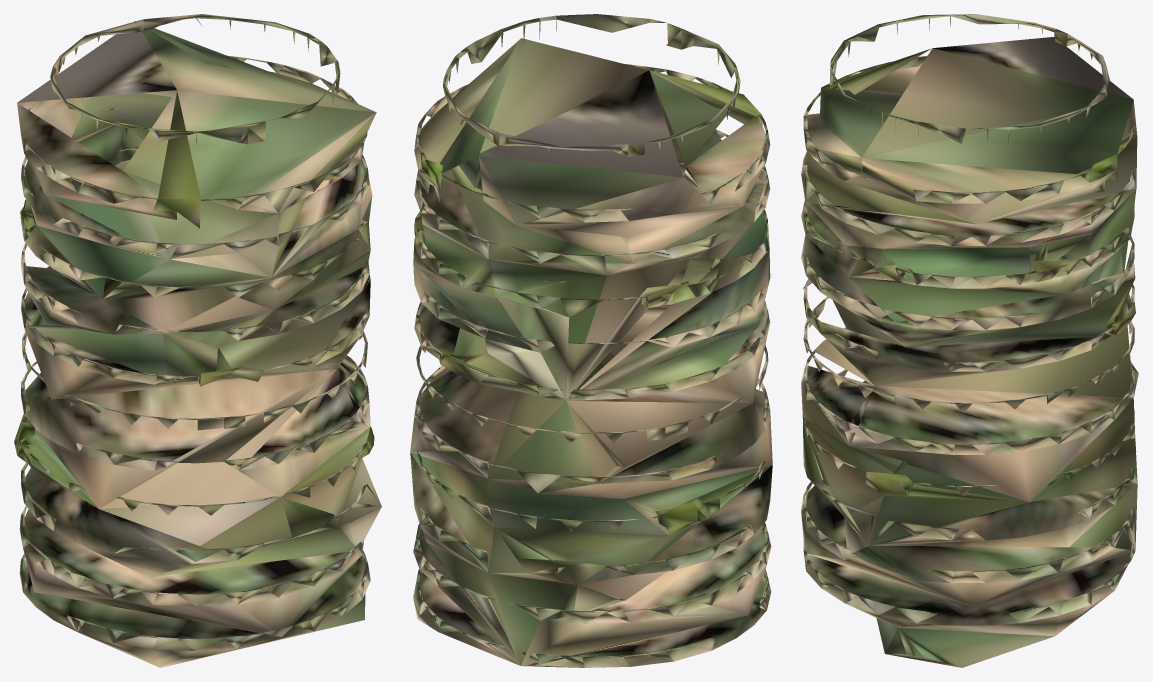
The model's file is round_tower_far.glb.
3 renders of one model, left to right at view 1: azimuth 30°, elevation 25°; view 2: azimuth 150°, elevation 25°; view 3: azimuth 270°, elevation 25°, orthographic. The views are drawn at different scales.
Visible parts, largest first — view 1: tripo_node_21e84011-4758-49af-86d9-04dfd265f98b; view 2: tripo_node_21e84011-4758-49af-86d9-04dfd265f98b; view 3: tripo_node_21e84011-4758-49af-86d9-04dfd265f98b.
Part boxes in pixels (x1,y1,x2,y2): tripo_node_21e84011-4758-49af-86d9-04dfd265f98b: (14, 14, 381, 667); tripo_node_21e84011-4758-49af-86d9-04dfd265f98b: (410, 14, 772, 667); tripo_node_21e84011-4758-49af-86d9-04dfd265f98b: (801, 14, 1138, 667).
Size of the model in its own units: 28.26 by 48 by 27.57.
1 material, 1 textured.
